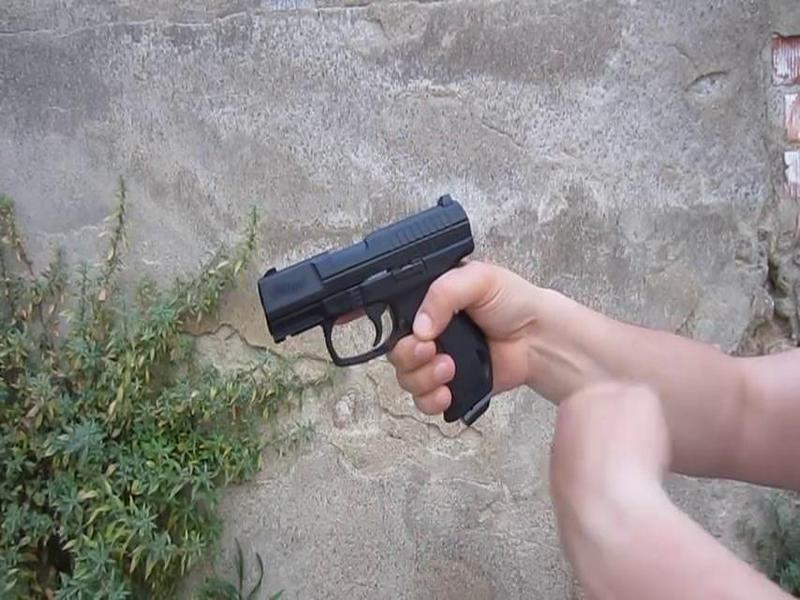Pistola: (237, 174, 505, 432)
